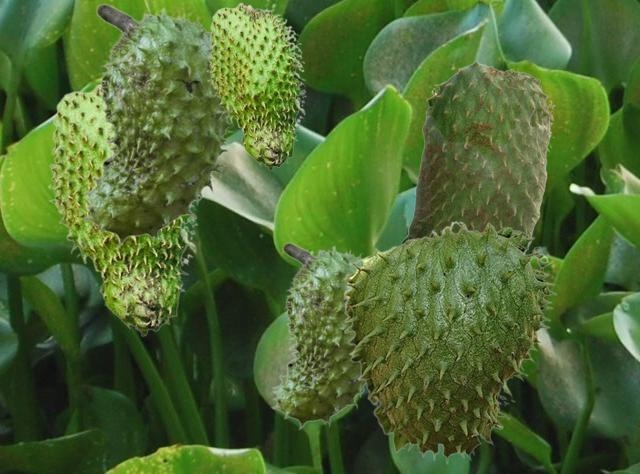guyabano: (343, 220, 556, 464), (47, 83, 198, 336), (80, 3, 235, 247), (401, 60, 554, 252), (270, 242, 365, 429), (206, 2, 306, 170)
